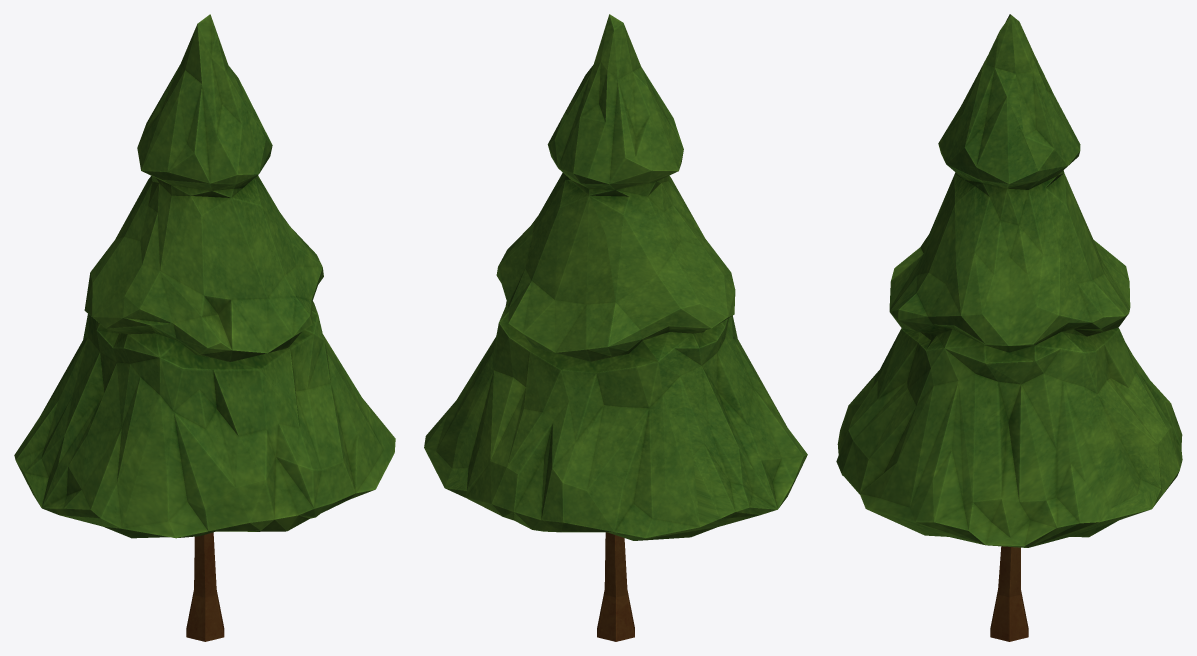
The model's file is pine-tree-2.glb.
3 views of the same model, side by side, from view 1: azimuth 30°, elevation 25°; view 2: azimuth 150°, elevation 25°; view 3: azimuth 270°, elevation 25° (orthographic).
Visible parts, largest first — view 1: PineTree_mesh; view 2: PineTree_mesh; view 3: PineTree_mesh.
Boxes of the visible parts, bbox=[...] form: PineTree_mesh: bbox=[14, 14, 395, 641]; PineTree_mesh: bbox=[424, 14, 807, 641]; PineTree_mesh: bbox=[836, 14, 1182, 641].
Size of the model in its own units: 10.84 by 19.65 by 9.93.
1 material, 1 textured.
